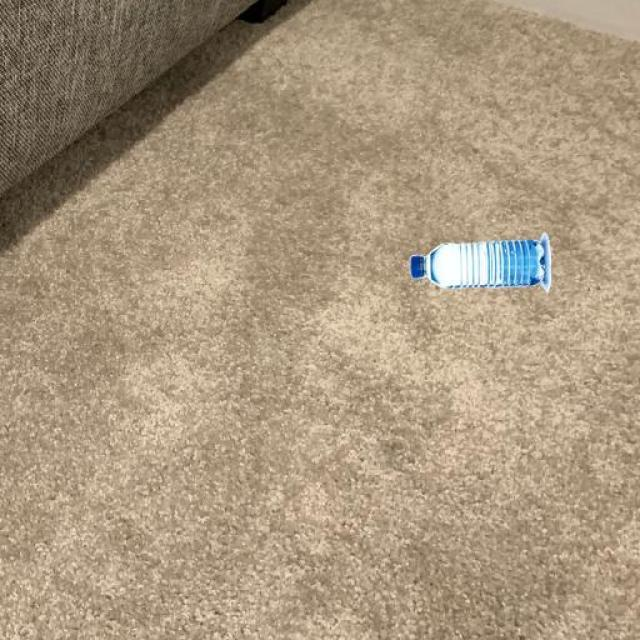bottle: (408, 230, 552, 294)
